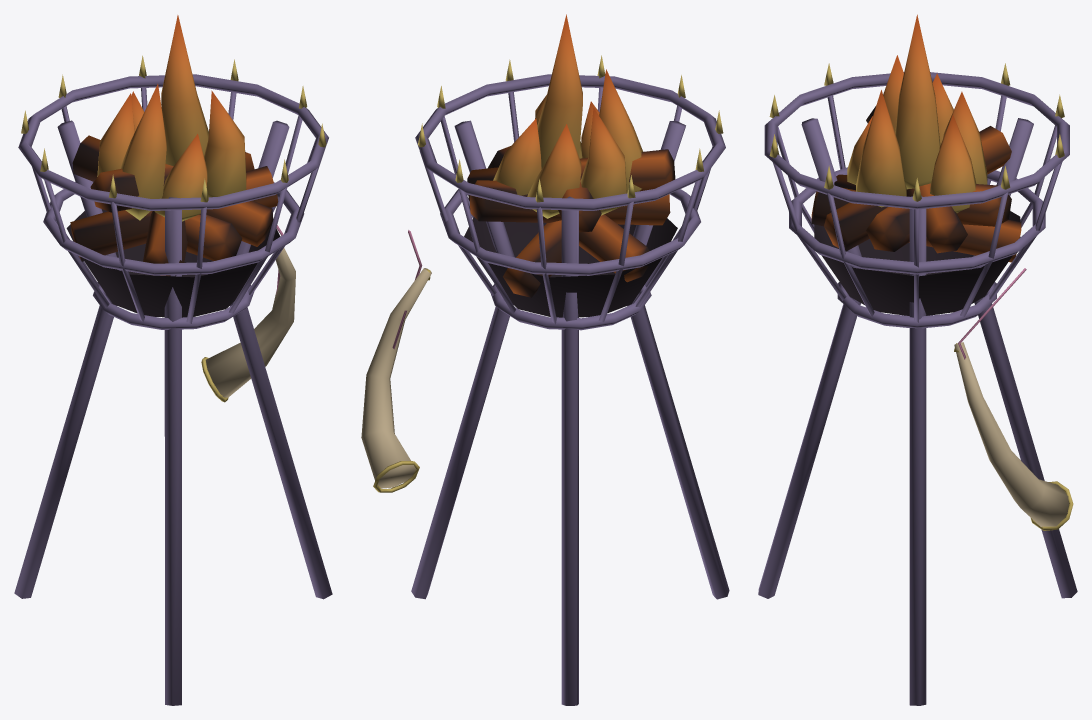
File: signal_brazier.glb
3 views of the same model, side by side, from view 1: azimuth 30°, elevation 25°; view 2: azimuth 150°, elevation 25°; view 3: azimuth 270°, elevation 25° (orthographic).
Visible parts, largest first — view 1: signal_brazier; view 2: signal_brazier; view 3: signal_brazier.
Part boxes in pixels (x1,y1,x2,y2): signal_brazier: [14, 15, 332, 705]; signal_brazier: [361, 14, 729, 705]; signal_brazier: [758, 14, 1077, 705].
Size of what is drawn, in the model's own units: 0.826 by 1.65 by 0.767.
